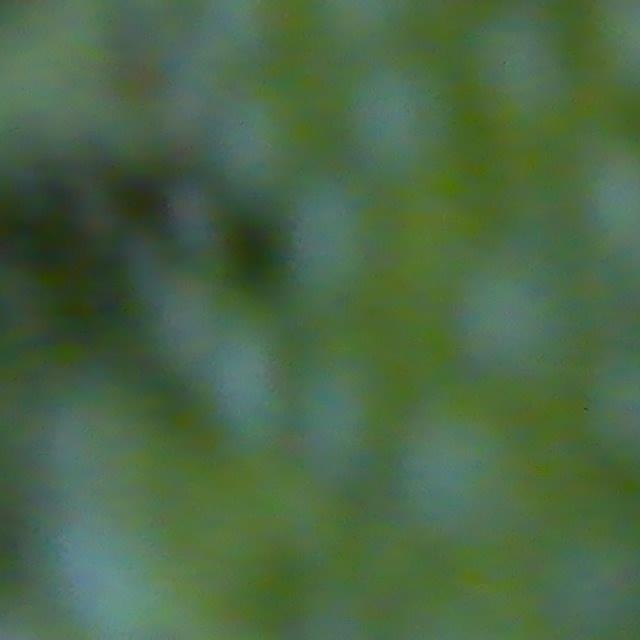SeaGrape: (463, 254, 587, 393), (458, 8, 580, 142), (543, 128, 640, 266), (342, 58, 443, 179), (214, 89, 314, 202), (191, 0, 291, 69)
